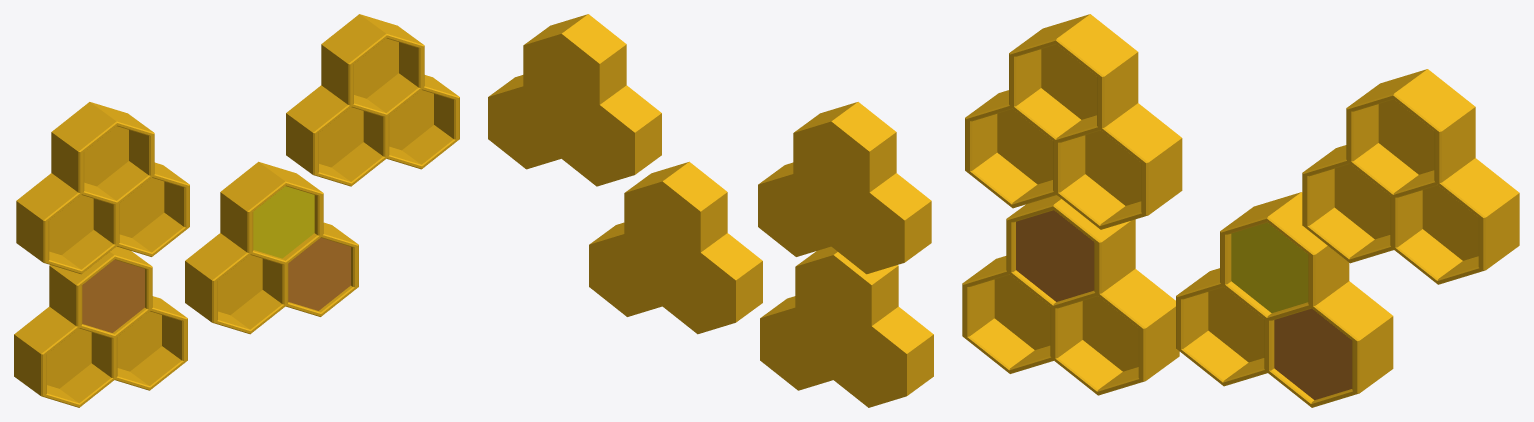
The model's file is Honey3.fbx.
3 views of the same model, side by side, from view 1: azimuth 30°, elevation 25°; view 2: azimuth 150°, elevation 25°; view 3: azimuth 330°, elevation 25° (orthographic). The views are drawn at different scales.
Visible parts, largest first — view 1: Cube.069, Cube.078, Cube.081, Cube.070; view 2: Cube.069, Cube.078, Cube.081, Cube.070; view 3: Cube.069, Cube.078, Cube.081, Cube.070.
Boxes of the visible parts, bbox=[...] form: Cube.069: bbox=[16, 102, 189, 274]; Cube.078: bbox=[286, 14, 459, 186]; Cube.081: bbox=[185, 161, 358, 334]; Cube.070: bbox=[14, 246, 187, 407]; Cube.069: bbox=[758, 102, 931, 274]; Cube.078: bbox=[488, 14, 661, 186]; Cube.081: bbox=[589, 161, 762, 334]; Cube.070: bbox=[760, 246, 933, 407]; Cube.069: bbox=[965, 14, 1182, 229]; Cube.078: bbox=[1302, 69, 1519, 284]; Cube.081: bbox=[1176, 192, 1393, 407]; Cube.070: bbox=[962, 195, 1179, 395].
Bounding box in the file's own units: 1466 × 1001 × 167.
